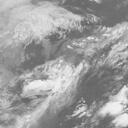cyclone: (22, 58, 77, 106)
